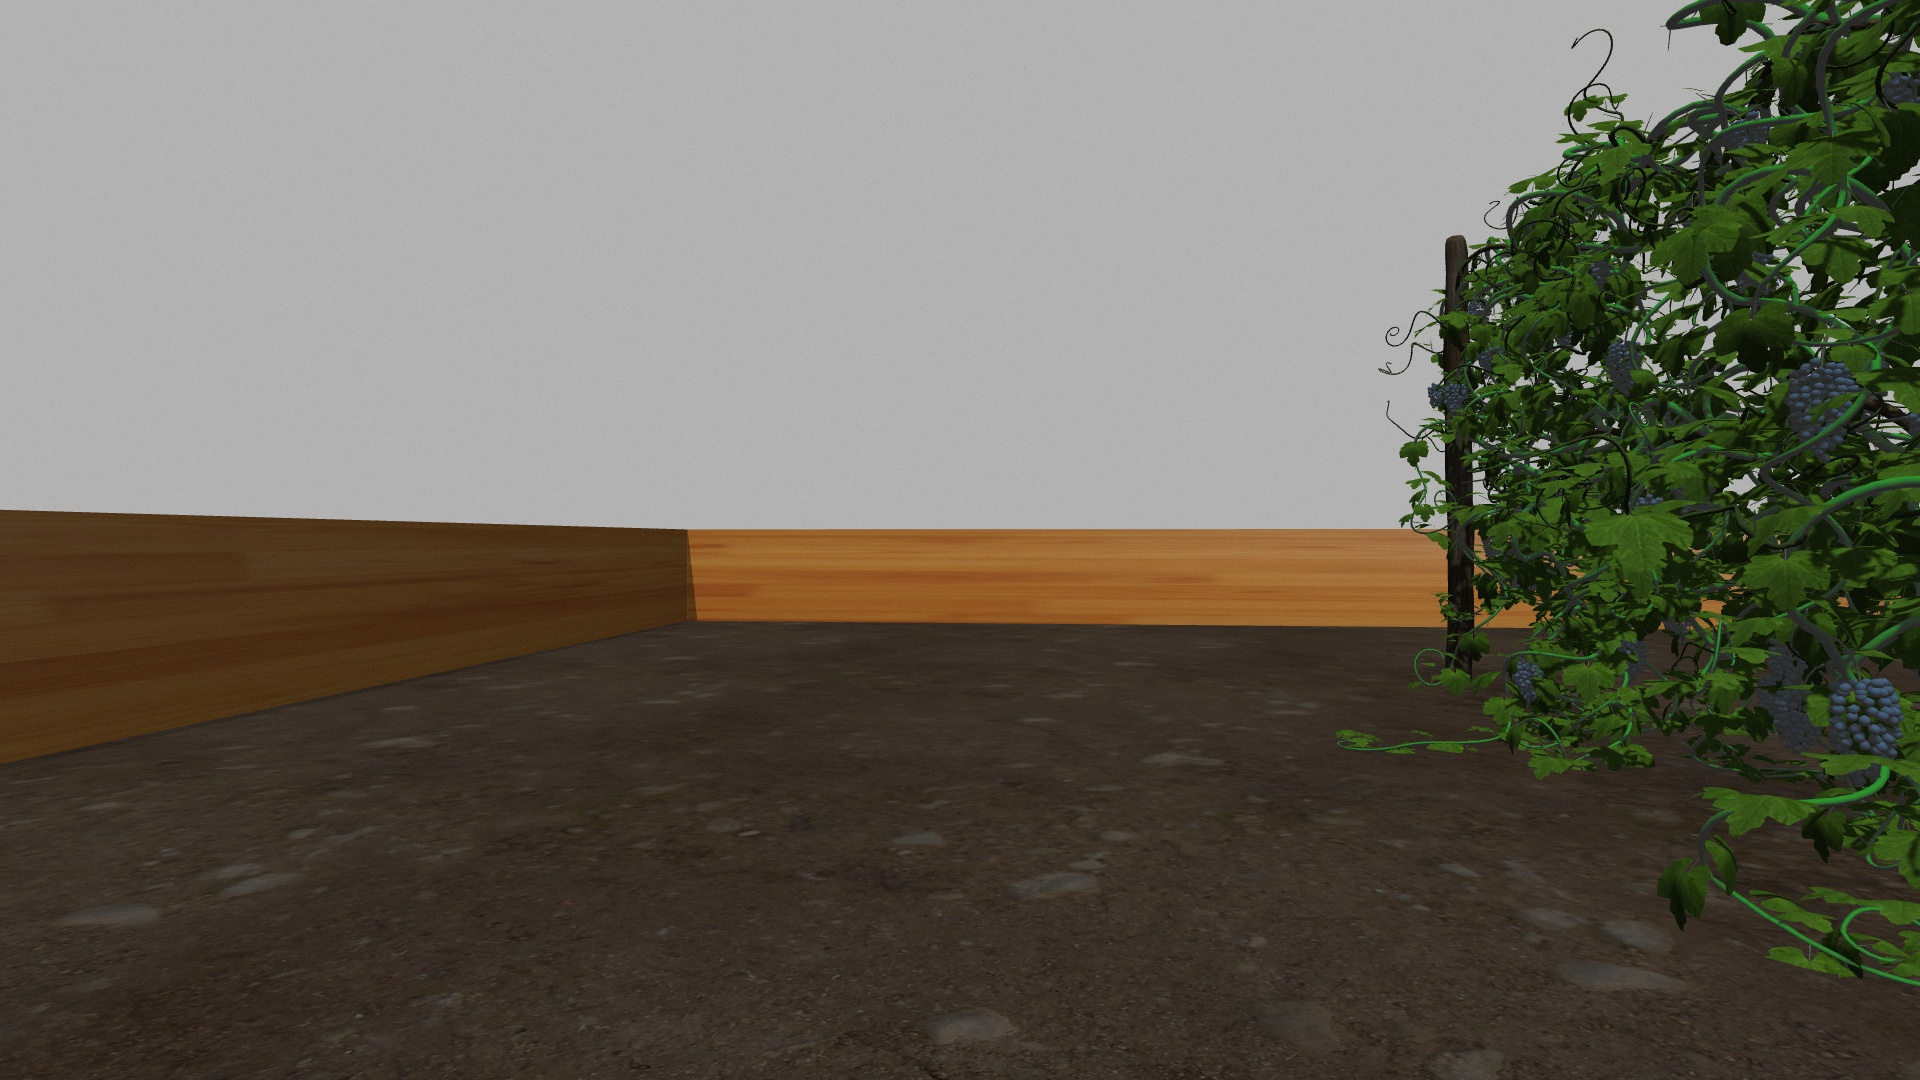grape: (1828, 676, 1903, 789), (1784, 357, 1859, 460), (1775, 688, 1820, 752), (1605, 338, 1644, 396), (1766, 641, 1803, 687), (1513, 658, 1544, 700), (1755, 676, 1780, 724), (1625, 640, 1647, 682), (1444, 384, 1468, 411), (1427, 382, 1445, 409)
